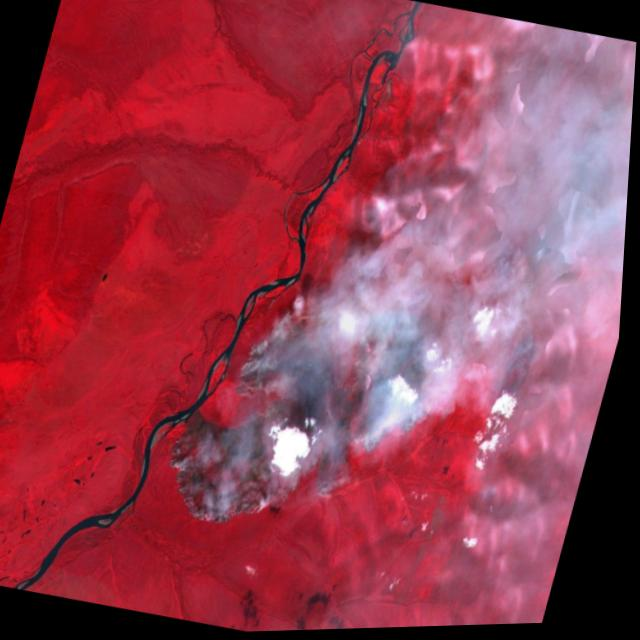fire: (155, 271, 464, 567)
